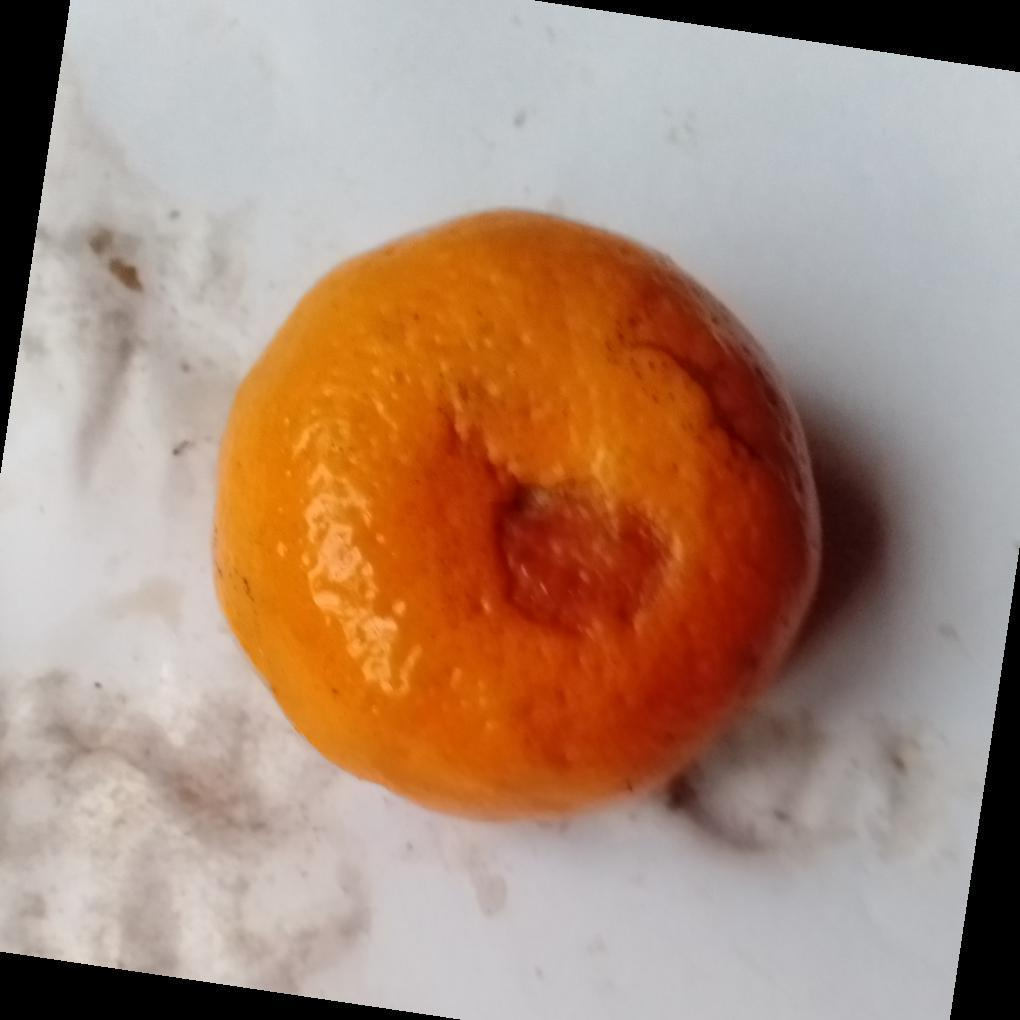FreshOrange: (209, 210, 824, 825)
